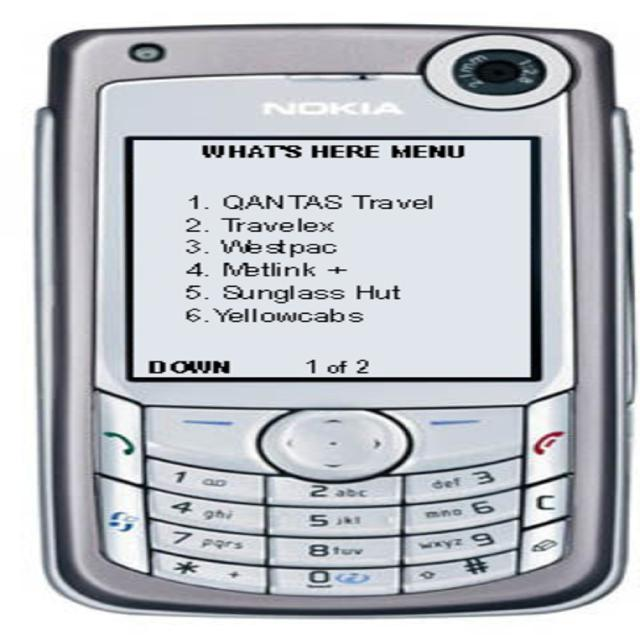Mobile phone: (38, 25, 638, 622)
